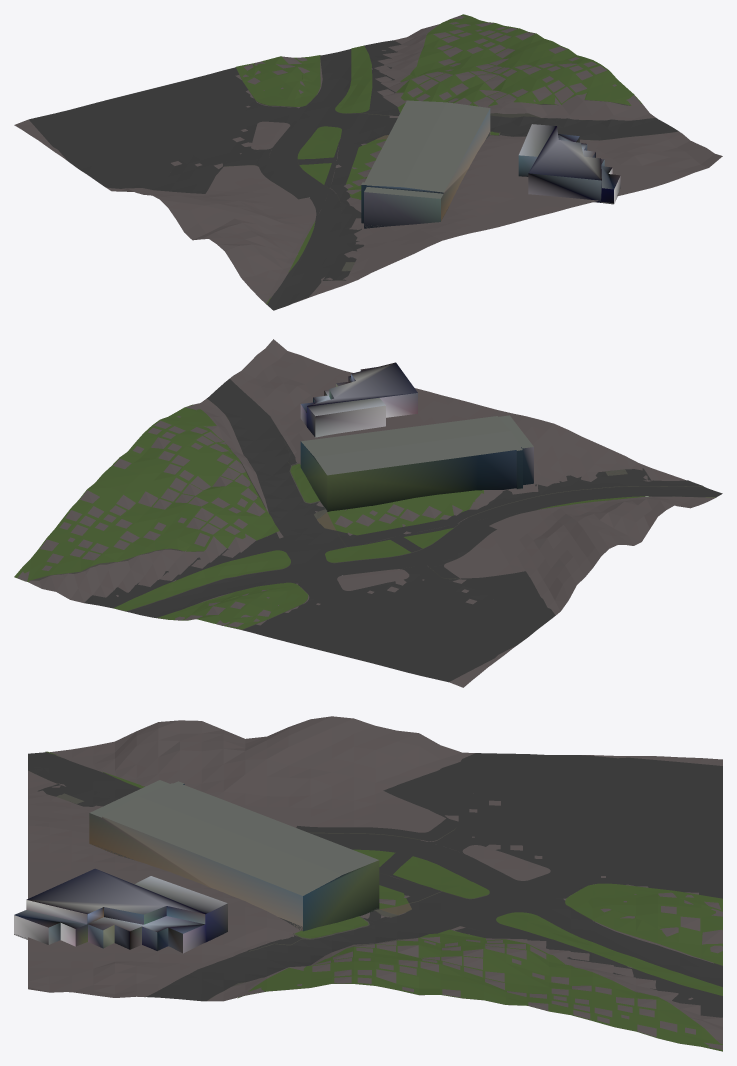
3 views of the same model, one above another, from view 1: azimuth 30°, elevation 25°; view 2: azimuth 150°, elevation 25°; view 3: azimuth 270°, elevation 25° (orthographic). The views are drawn at different scales.
Visible parts, largest first — view 1: c_m06_m18; view 2: c_m06_m18; view 3: c_m06_m18.
Part boxes in pixels (x1,y1,x2,y2): c_m06_m18: (14,14,722,310); c_m06_m18: (14,339,722,687); c_m06_m18: (14,716,722,1051).
Size of the model in its own units: 128 by 17.33 by 131.
